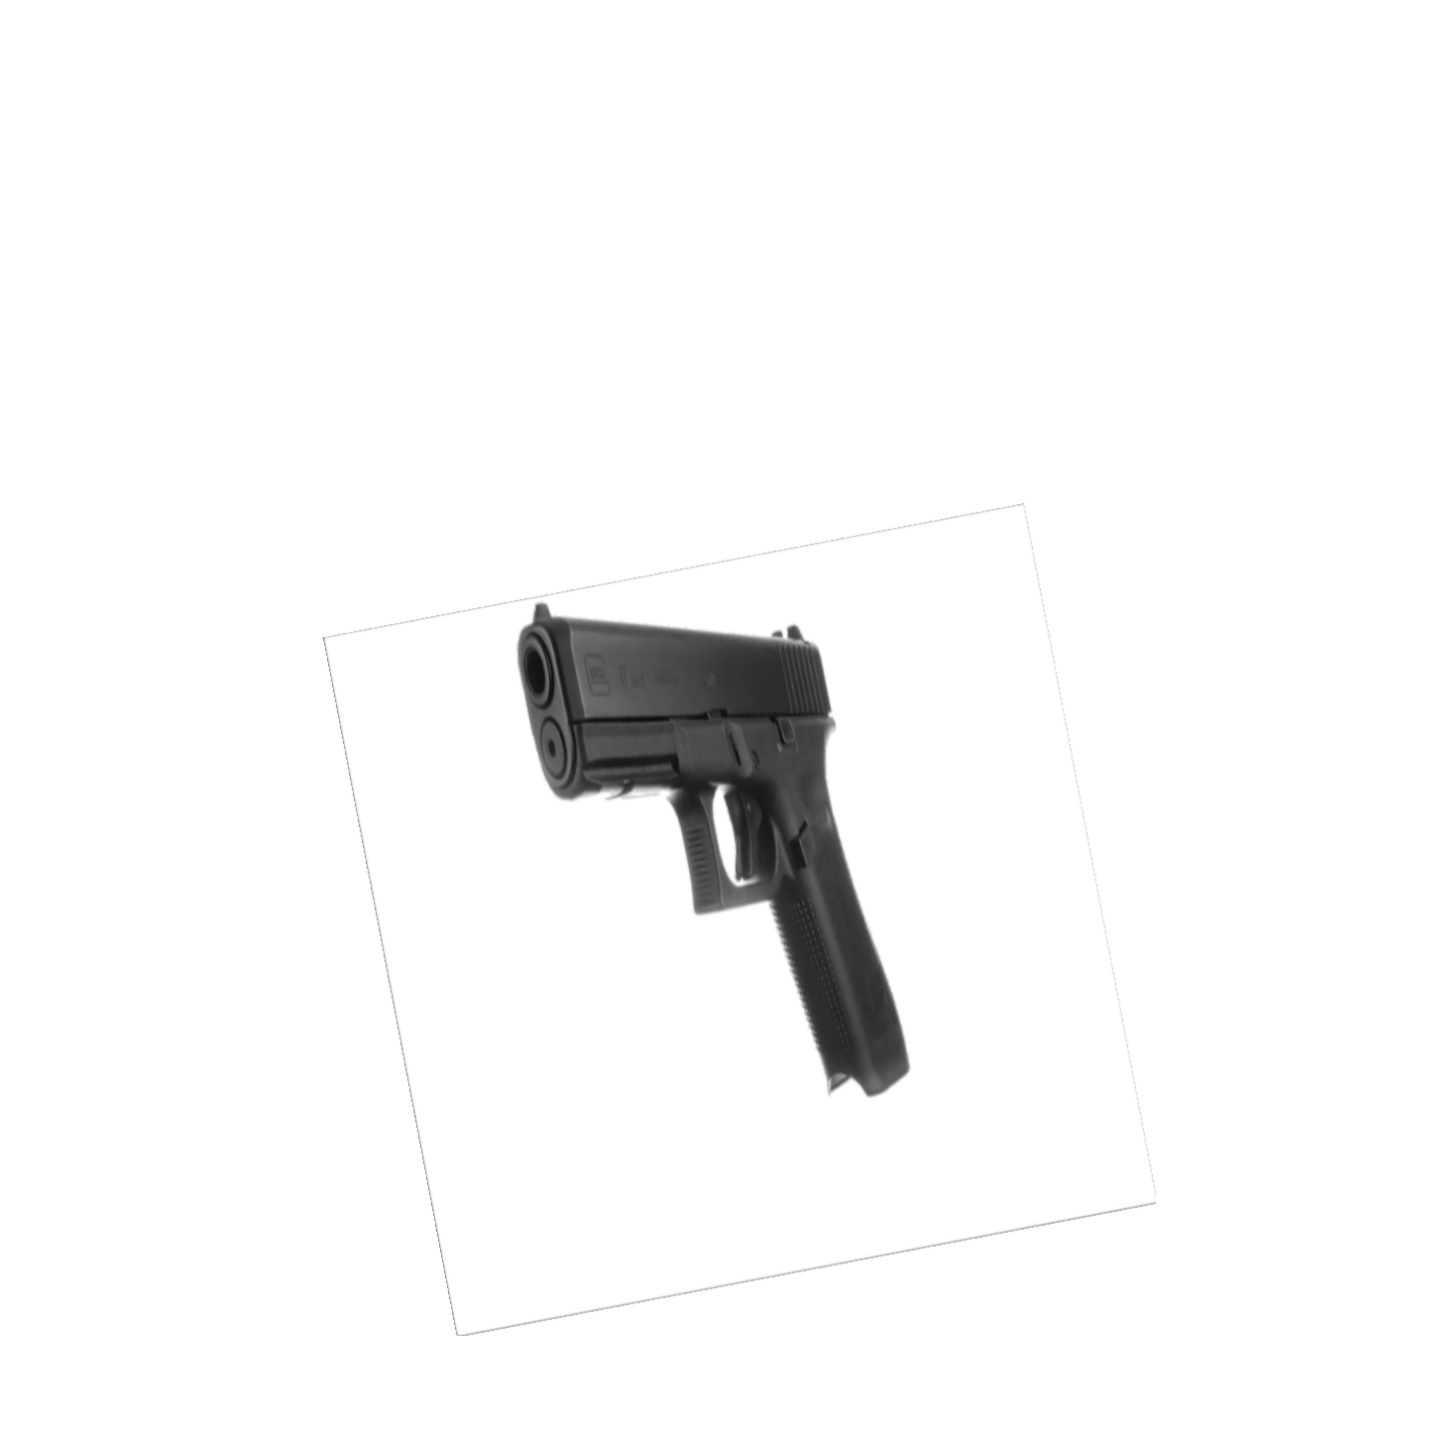gun: (491, 593, 928, 1107)
